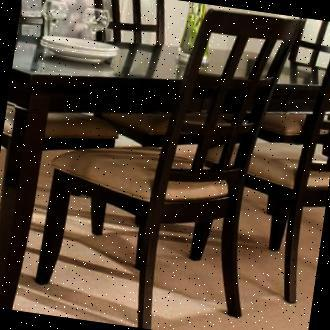Silla: (31, 0, 306, 329)
